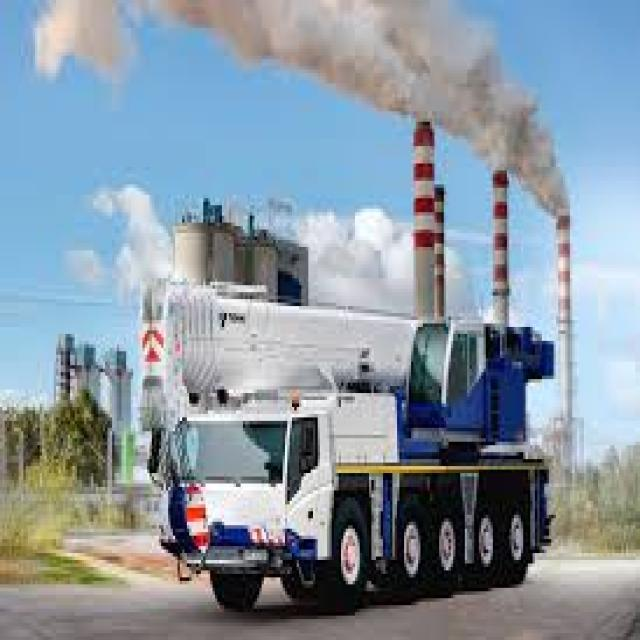Smoke: (31, 0, 572, 217)
